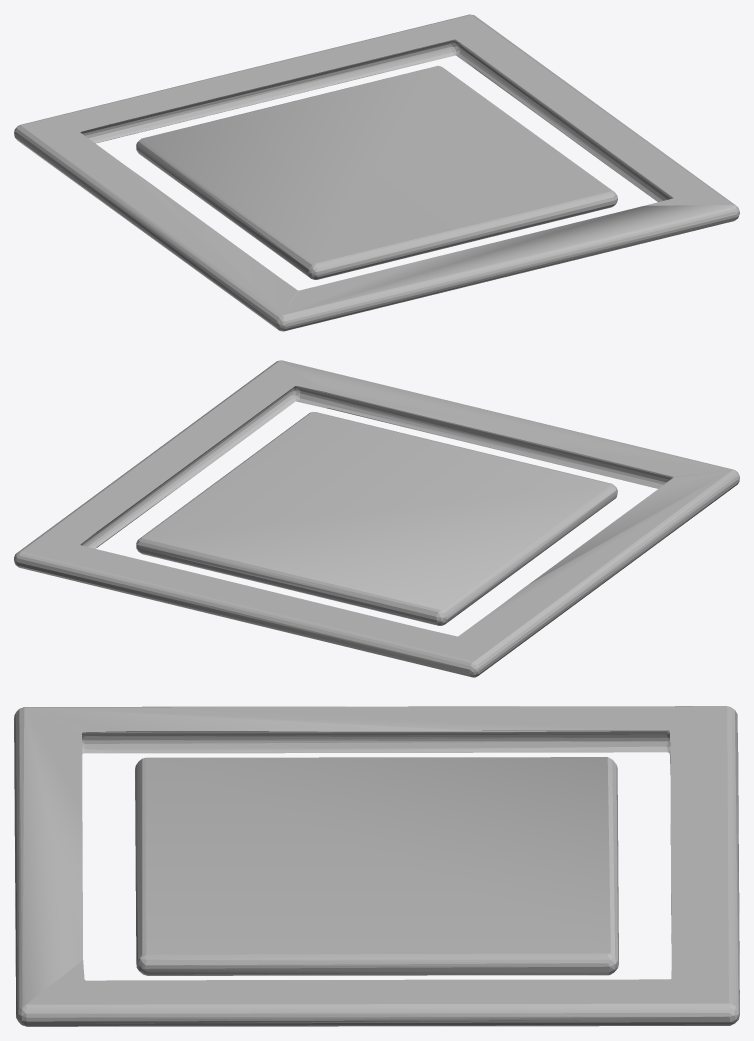
File: infotafelbutton.glb
3 renders of one model, top to bottom at view 1: azimuth 30°, elevation 25°; view 2: azimuth 150°, elevation 25°; view 3: azimuth 270°, elevation 25°, orthographic. The views are drawn at different scales.
Parts seen in each view (by area): view 1: 265775_23_05_05_07_52_36; view 2: 265775_23_05_05_07_52_36; view 3: 265775_23_05_05_07_52_36.
Boxes of the visible parts, box(x1,y1,x2,y2) form: 265775_23_05_05_07_52_36: box(14, 14, 739, 331); 265775_23_05_05_07_52_36: box(14, 360, 739, 677); 265775_23_05_05_07_52_36: box(14, 706, 739, 1026).
Size of the model in its own units: 1.2 by 0.04 by 1.2.
Materials: 1 (1 with a texture image).
